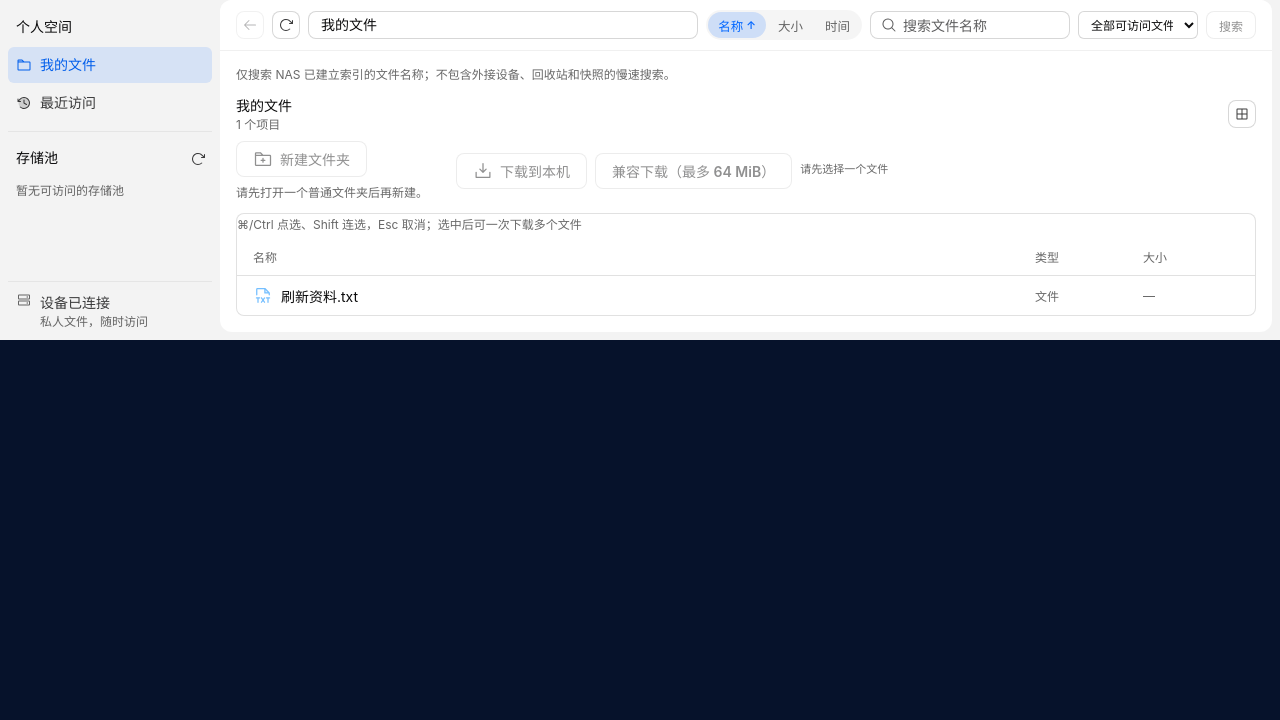
Test: invalidates an old selection when refreshing the collection even if the returned file identity stays the same
The width and height of the screenshot is (1280, 720).
Click the button "刷新资料.txt 文件 —".
click(320, 296)  # box x1=237 y1=275 x2=1255 y2=315
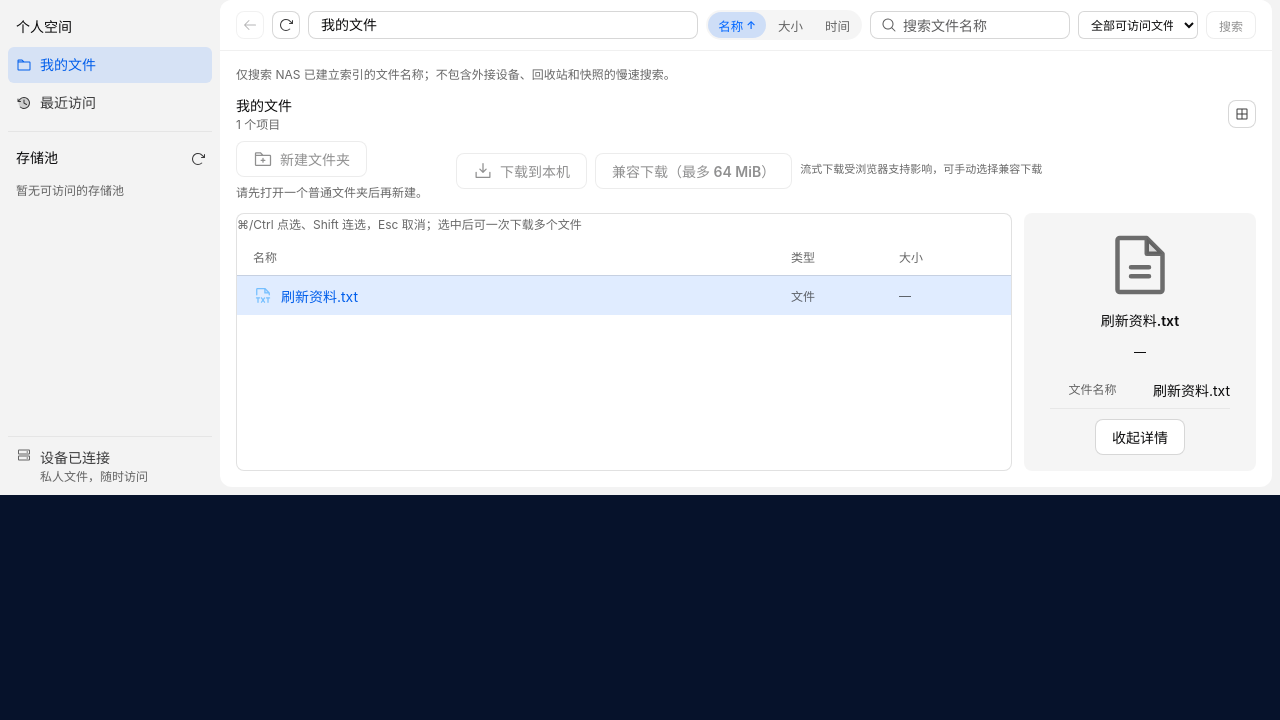
Check: the button "收起详情" is shown, box x1=1095 y1=419 x2=1185 y2=455
Click the button named "刷新文件".
click(286, 25)  # box x1=272 y1=11 x2=300 y2=39
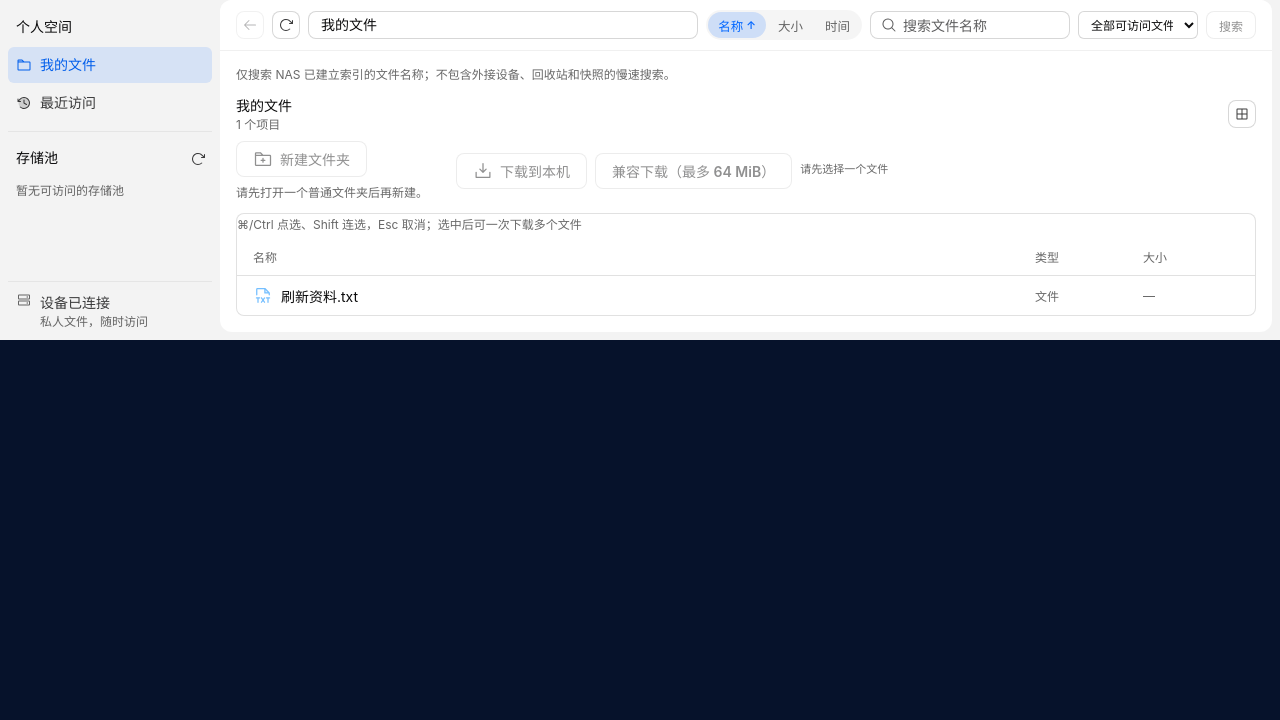
Check: the button "刷新资料.txt 文件 —" is shown, box x1=237 y1=275 x2=1255 y2=315
Check: the button "收起详情" is gone
